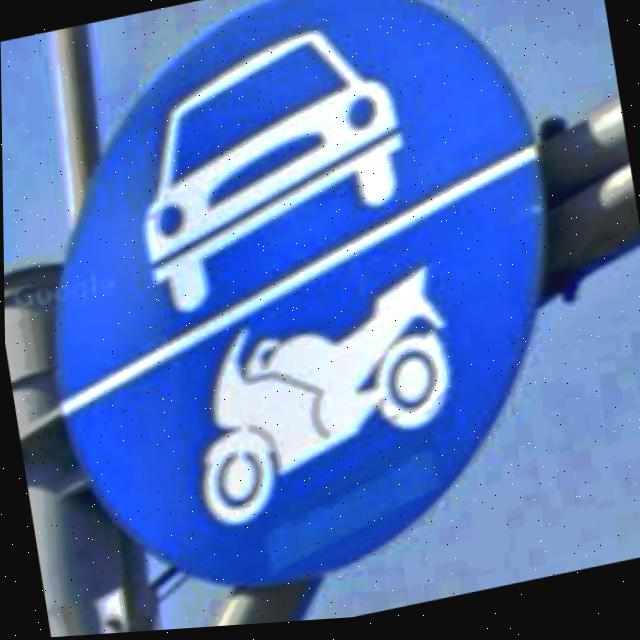carmotorcycle: (51, 0, 547, 596)
